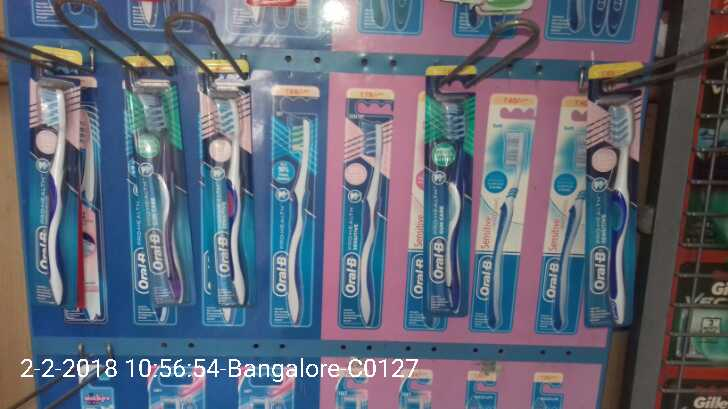oralb: (124, 56, 197, 302), (194, 61, 254, 309), (27, 43, 82, 307), (587, 58, 639, 326), (422, 67, 474, 316)
